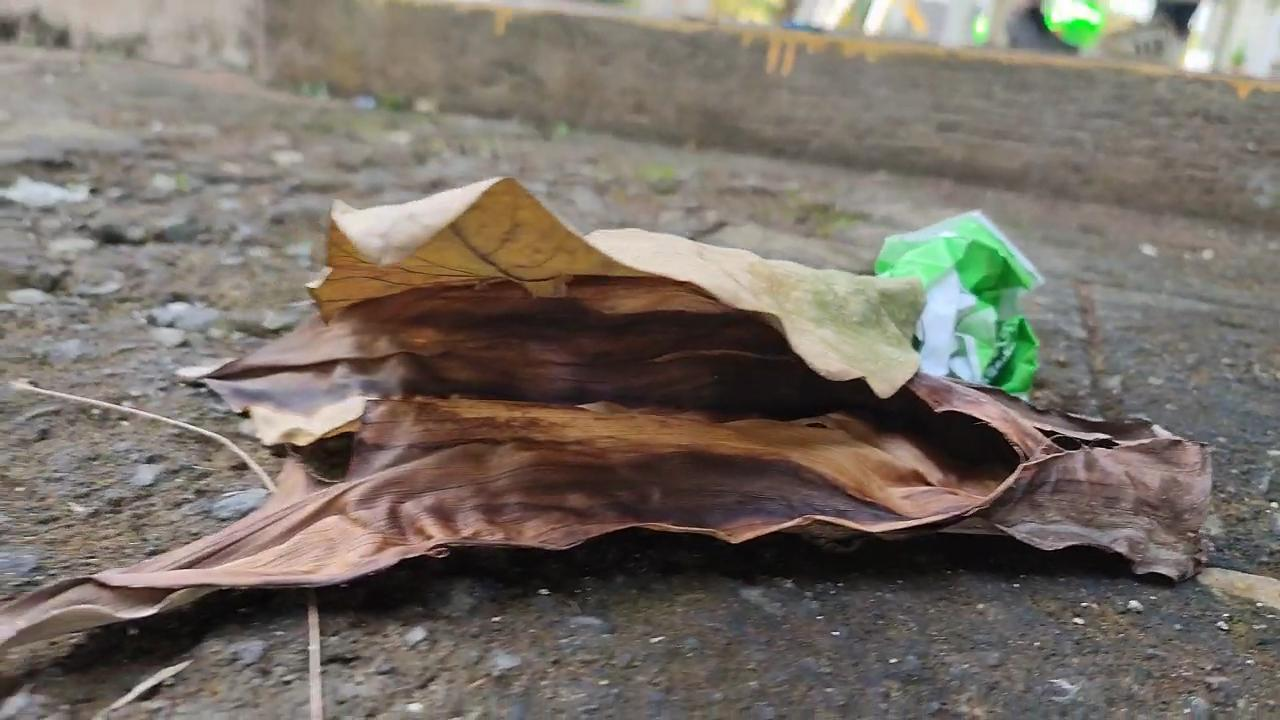Paper: (892, 193, 1052, 404)
